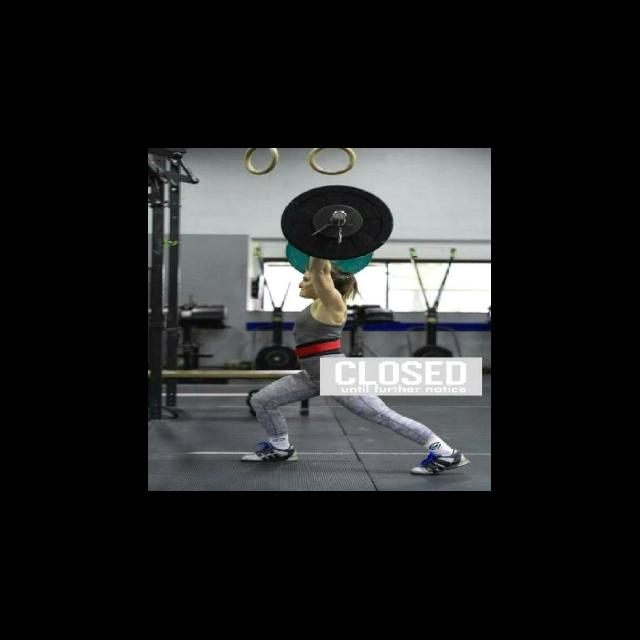barbell: (276, 182, 399, 263)
